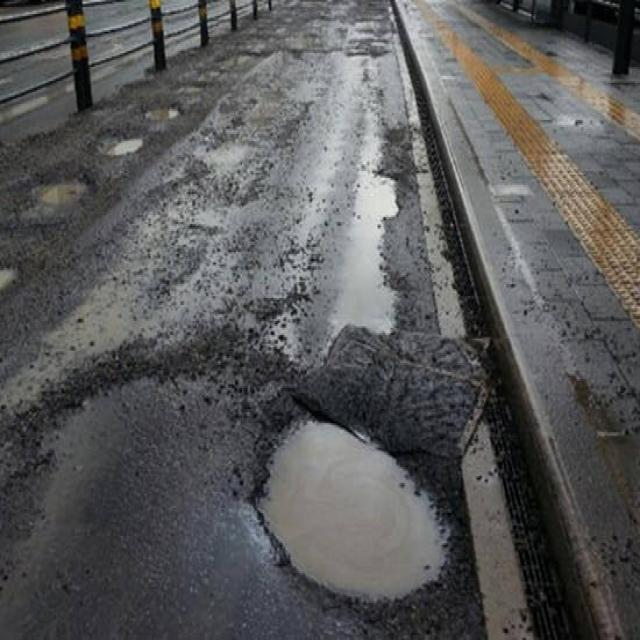pothole: (248, 382, 466, 624), (41, 164, 96, 212), (94, 126, 154, 166), (134, 97, 184, 126), (0, 259, 28, 300), (210, 48, 255, 72)
